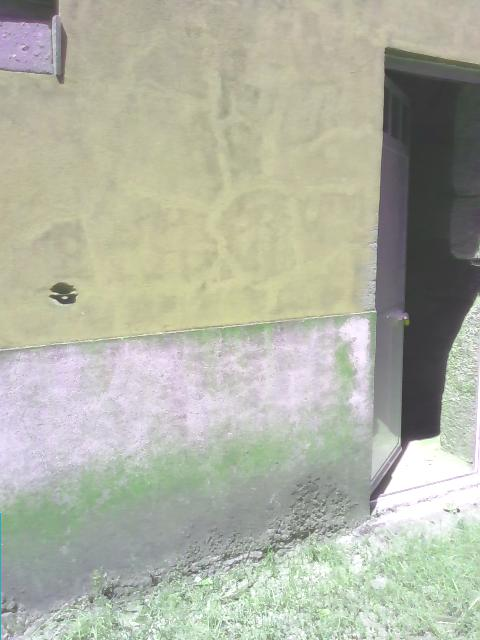semi_door: (369, 45, 479, 506)
